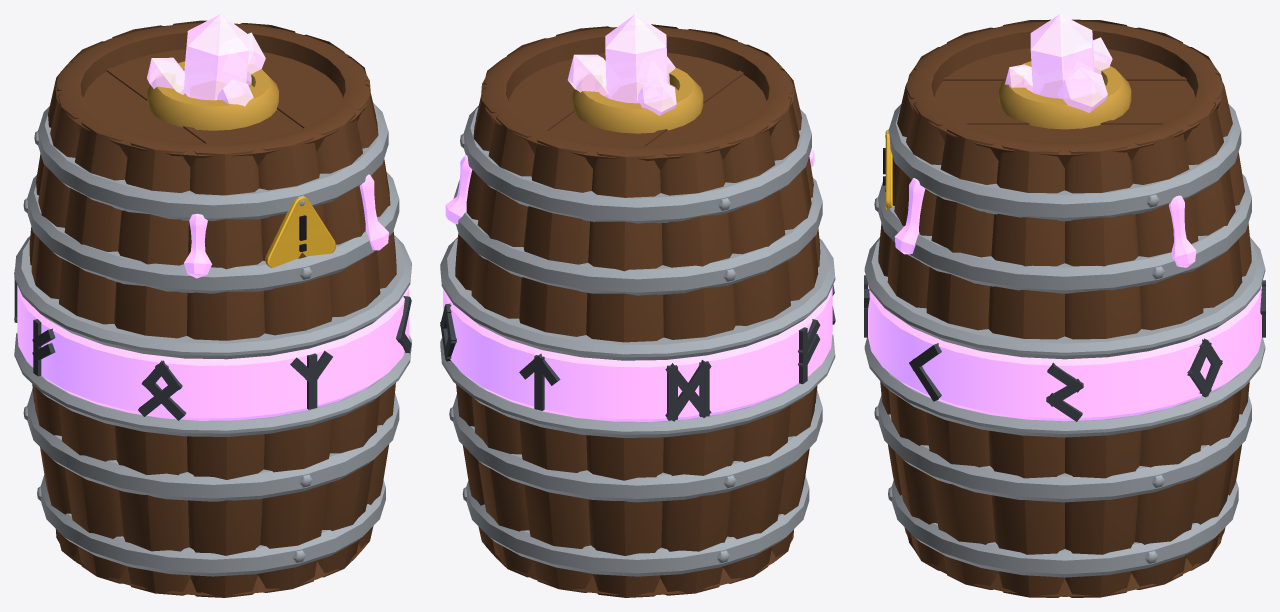
The model's file is part_barrel.glb.
3 views of the same model, side by side, from view 1: azimuth 30°, elevation 25°; view 2: azimuth 150°, elevation 25°; view 3: azimuth 270°, elevation 25° (orthographic).
Parts seen in each view (by area): view 1: Barrel; view 2: Barrel; view 3: Barrel.
Part boxes in pixels (left/top/right/bottom): Barrel: left=14, top=14, right=411, bottom=597; Barrel: left=440, top=14, right=835, bottom=597; Barrel: left=864, top=14, right=1265, bottom=597.
Bounding box in the file's own units: 0.698 × 0.9995 × 0.698.
